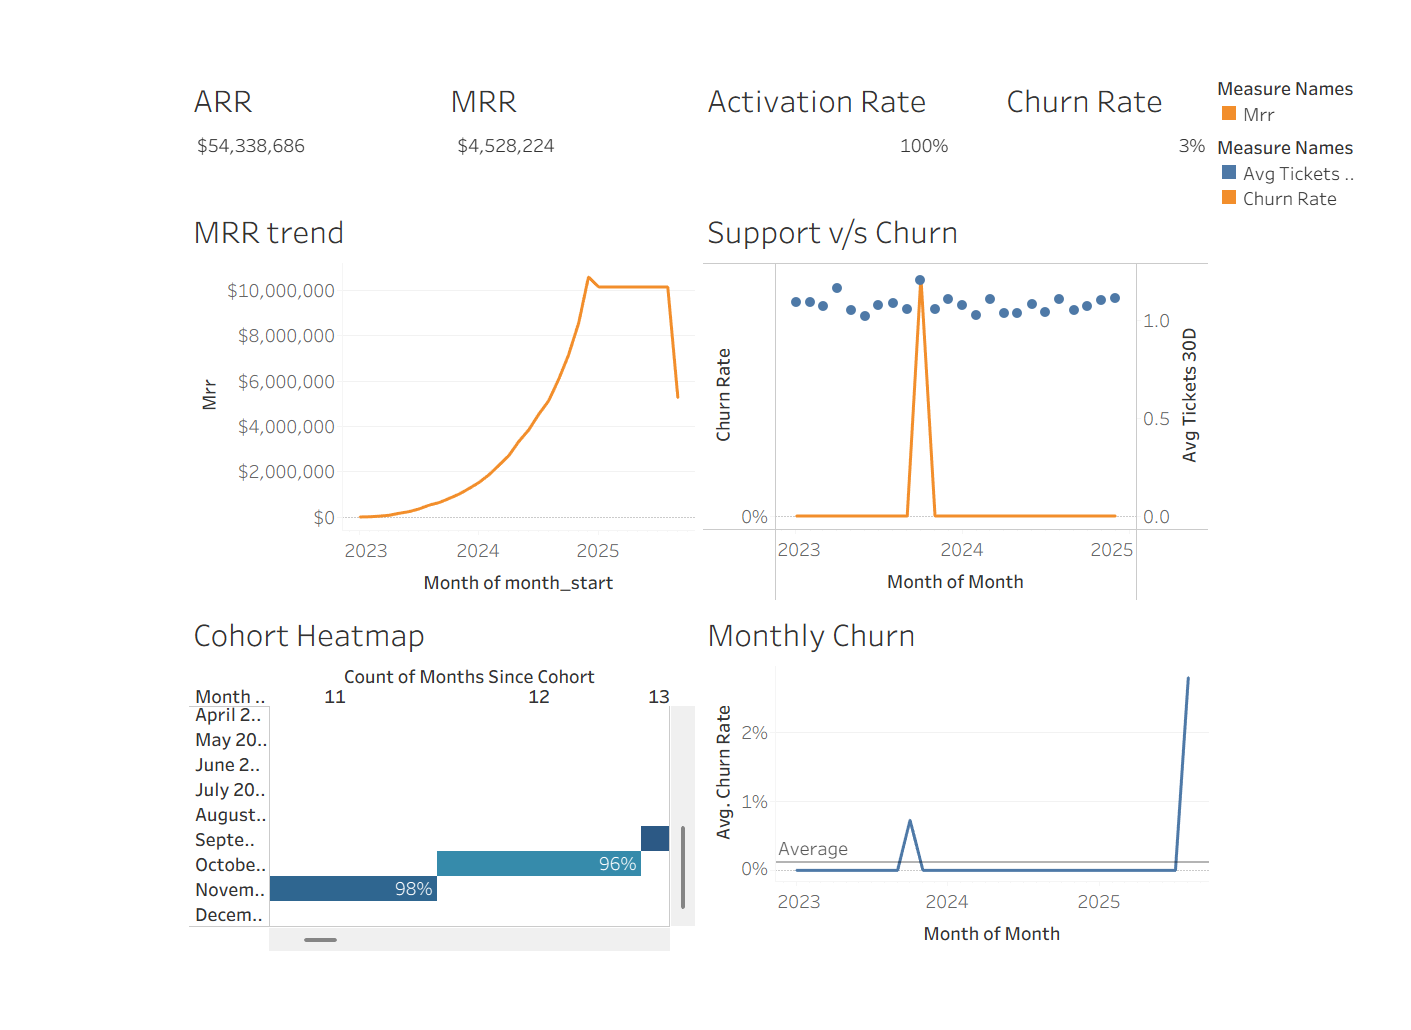

This screenshot's page, from the dashboard's own definition file:
{"tool":"tableau","page":{"name":"Dashboard 1","canvas":[1200,900],"ordinal":0},"visuals":[{"type":"worksheet","title":"ARR","mark":"Automatic","box":[8,8,257,131]},{"type":"worksheet","title":"MRR","mark":"Automatic","box":[265,8,257,131]},{"type":"worksheet","title":"Activation Rate","mark":"Automatic","box":[522,8,257,131]},{"type":"worksheet","title":"Churn Rate","mark":"Automatic","box":[779,8,257,131]},{"type":"legend","title":"MRR trend","param":"[federated.0hwk83307e8e9g1abgoqz0xsqn1a].[:Measure Names]","box":[1036,8,156,59]},{"type":"legend","title":"Support v/s Churn","param":"[federated.0gxhmh31nrkdwu1fguowx11yubau].[:Measure Names]","box":[1036,67,156,84]},{"type":"worksheet","title":"MRR trend","mark":"Line","rows":["mrr"],"cols":["month_start"],"box":[8,139,514,402.5]},{"type":"worksheet","title":"Support v/s Churn","mark":"Automatic","rows":["churn_rate","avg_tickets_30d"],"cols":["month"],"box":[522,139,514,402.5]},{"type":"worksheet","title":"Cohort Heatmap","mark":"Square","rows":["cohort_month"],"cols":["months_since_cohort"],"box":[8,541.5,514,350.5]},{"type":"worksheet","title":"Monthly Churn","mark":"Automatic","rows":["churn_rate"],"cols":["month"],"box":[522,541.5,514,350.5]}]}

Visuals, with their boxes in screenshot pixels (x1, y1, x2, y2), scaled from the page's 1200x900 canvas onto the 1411x1030 screenshot:
"ARR" worksheet: <region>9, 9, 312, 159</region>
"MRR" worksheet: <region>312, 9, 614, 159</region>
"Activation Rate" worksheet: <region>614, 9, 916, 159</region>
"Churn Rate" worksheet: <region>916, 9, 1218, 159</region>
"MRR trend" legend: <region>1218, 9, 1402, 77</region>
"Support v/s Churn" legend: <region>1218, 77, 1402, 173</region>
"MRR trend" worksheet (Line marks): <region>9, 159, 614, 620</region>
"Support v/s Churn" worksheet: <region>614, 159, 1218, 620</region>
"Cohort Heatmap" worksheet (Square marks): <region>9, 620, 614, 1021</region>
"Monthly Churn" worksheet: <region>614, 620, 1218, 1021</region>
